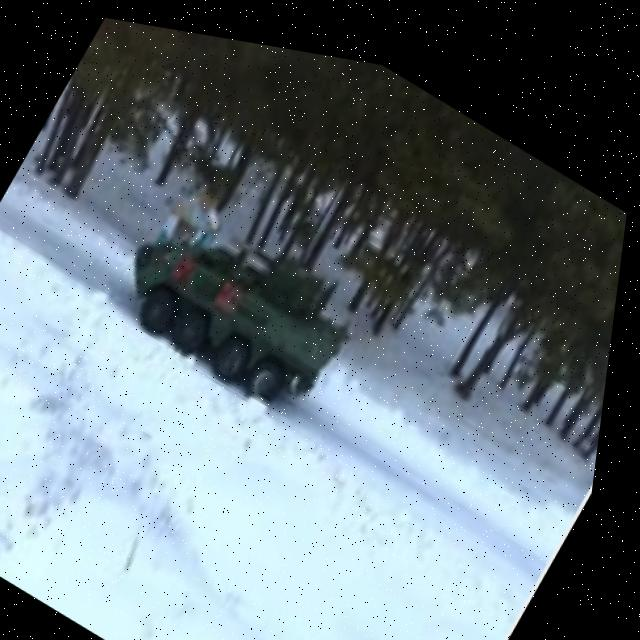MIL_APC: (88, 140, 420, 460)
